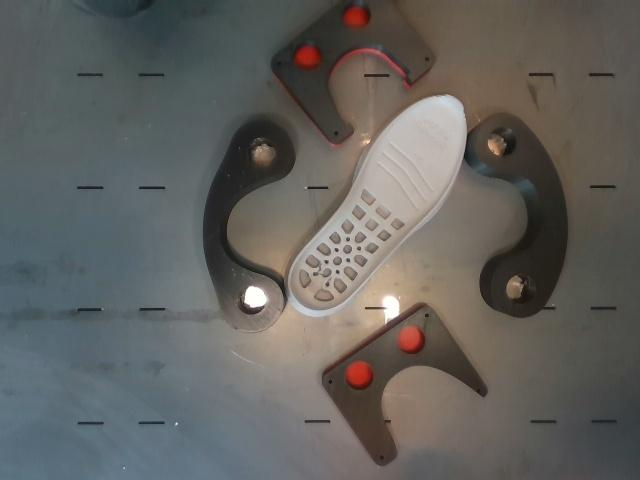shoes: (290, 97, 464, 312)
